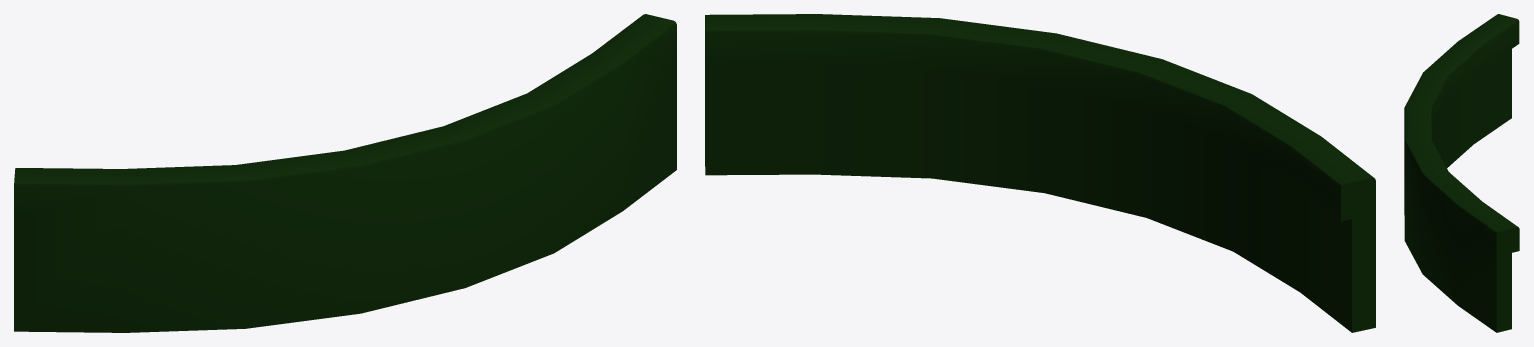
The model's file is round-wall-2.fbx.
3 views of the same model, side by side, from view 1: azimuth 30°, elevation 25°; view 2: azimuth 150°, elevation 25°; view 3: azimuth 270°, elevation 25° (orthographic). The views are drawn at different scales.
Visible parts, largest first — view 1: round-wall-2; view 2: round-wall-2; view 3: round-wall-2.
Part boxes in pixels (bbox=[...]): round-wall-2: bbox=[14, 14, 676, 332]; round-wall-2: bbox=[705, 14, 1375, 332]; round-wall-2: bbox=[1404, 14, 1519, 332].
Size of the model in its own units: 23.33 by 5 by 5.18.
